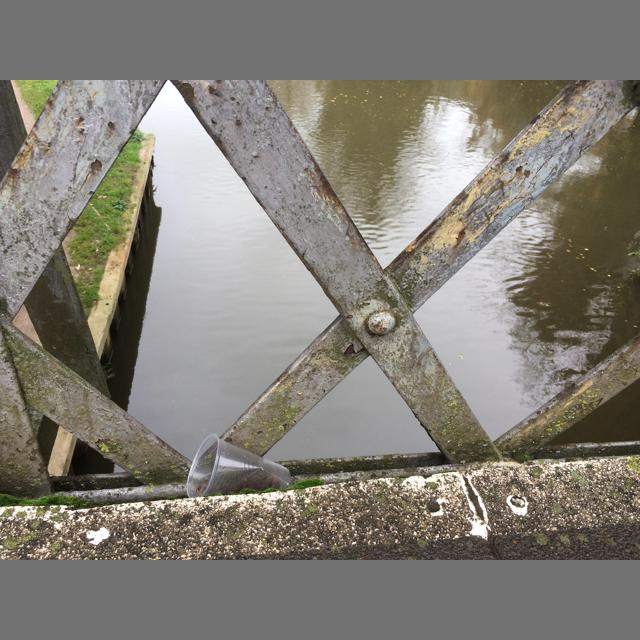litter: (186, 434, 291, 498)
